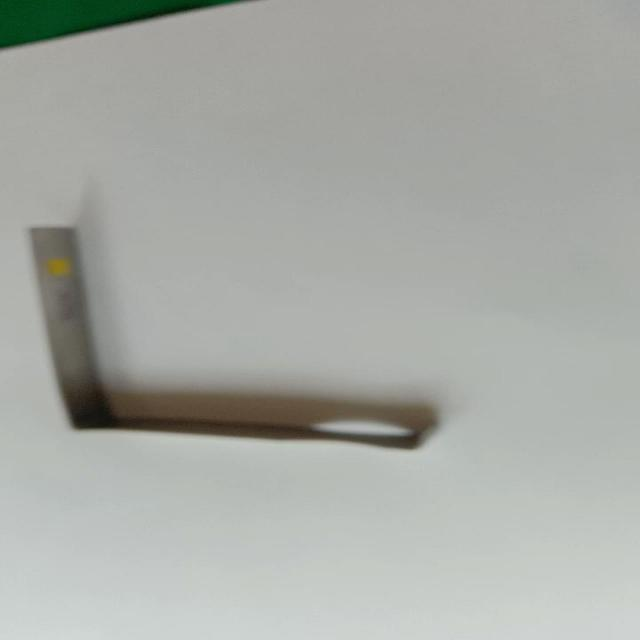AustinRetractor: (18, 217, 444, 458)
